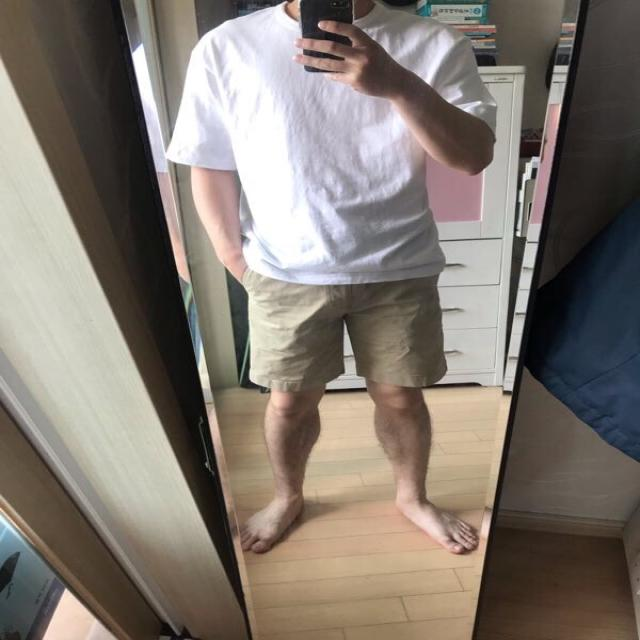shortpants: (243, 265, 444, 389)
shortsleeve: (159, 4, 497, 282)
